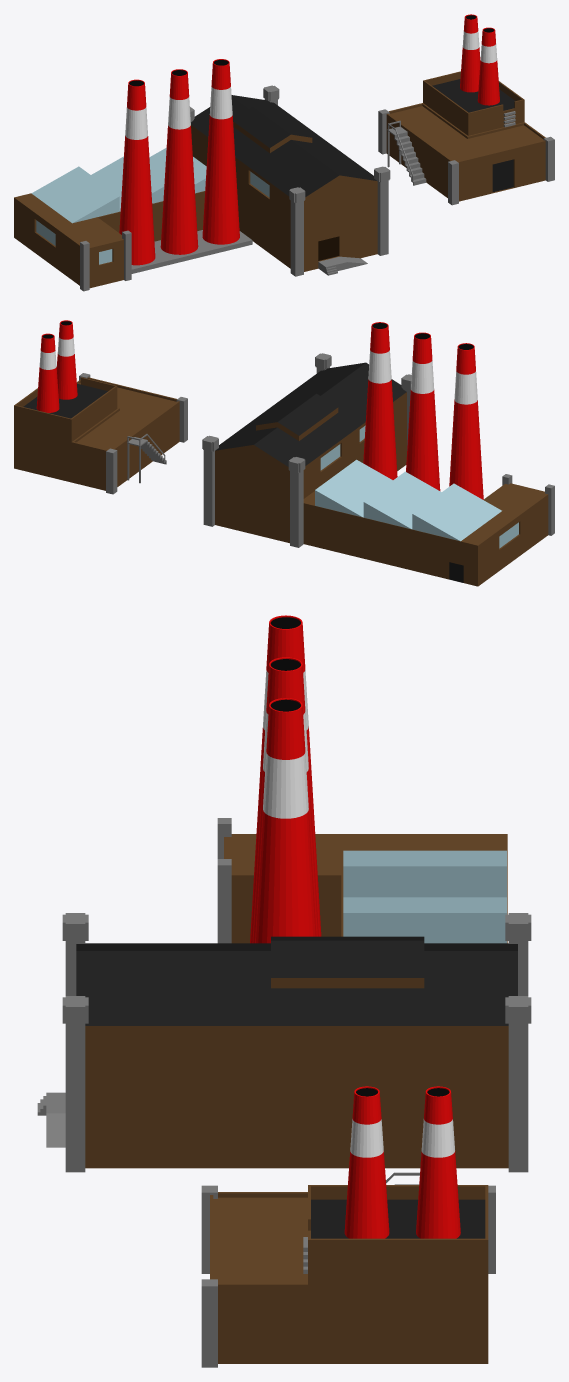
The model's file is factory.glb.
3 views of the same model, one above another, from view 1: azimuth 30°, elevation 25°; view 2: azimuth 150°, elevation 25°; view 3: azimuth 270°, elevation 25° (orthographic). The views are drawn at different scales.
Visible parts, largest first — view 1: Cube.017, Cube.008, Cube.019; view 2: Cube.017, Cube.008, Cube.019; view 3: Cube.017, Cube.008, Cube.019.
Part boxes in pixels (box(x1,y1,x2,y2)): Cube.017: box(14, 85, 390, 291); Cube.008: box(378, 14, 554, 205); Cube.019: box(119, 59, 252, 273); Cube.017: box(202, 353, 554, 586); Cube.008: box(14, 320, 187, 494); Cube.019: box(363, 322, 483, 499); Cube.017: box(37, 818, 531, 1172); Cube.008: box(201, 1086, 495, 1367); Cube.019: box(250, 615, 321, 943).
Bounding box in the file's own units: 110 × 40.17 × 50.31.
